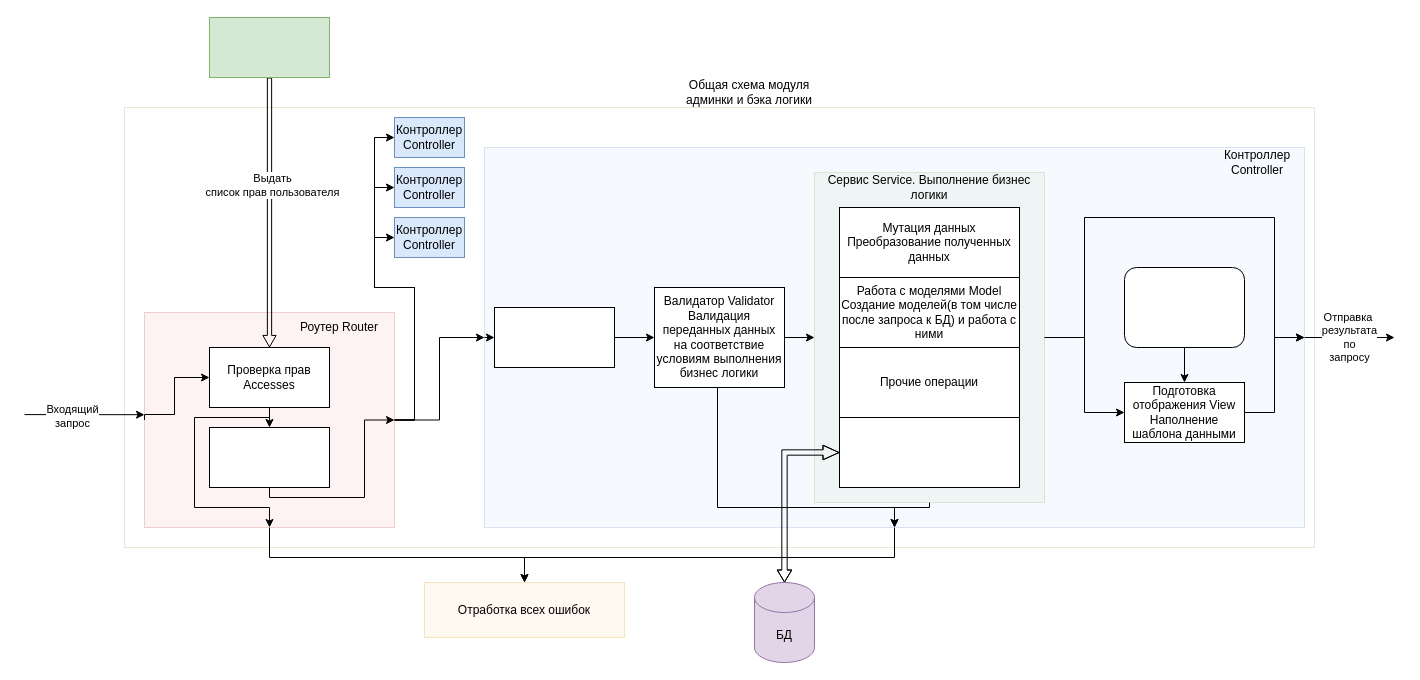
Some shapes in this 1420 by 680 pixel diagram are drawn without their labels. Each missing label, with the box of its shape:
Вызов нужного контроллера: (208, 426, 330, 488)
Запрос или запись данных в БД с помощью Гейтвей Gateway: (838, 416, 1020, 488)
Модуль авторизации: (208, 16, 330, 78)
Сбор переданных данных, первичная обработка с помощью filter_var: (494, 306, 614, 368)
Шаблон отображения ViewTemplate Может быть как html, так и blade: (1124, 266, 1244, 348)
